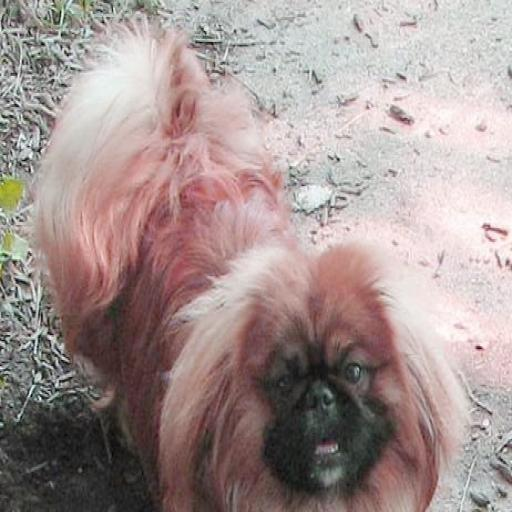dog_face: (194, 265, 467, 512)
